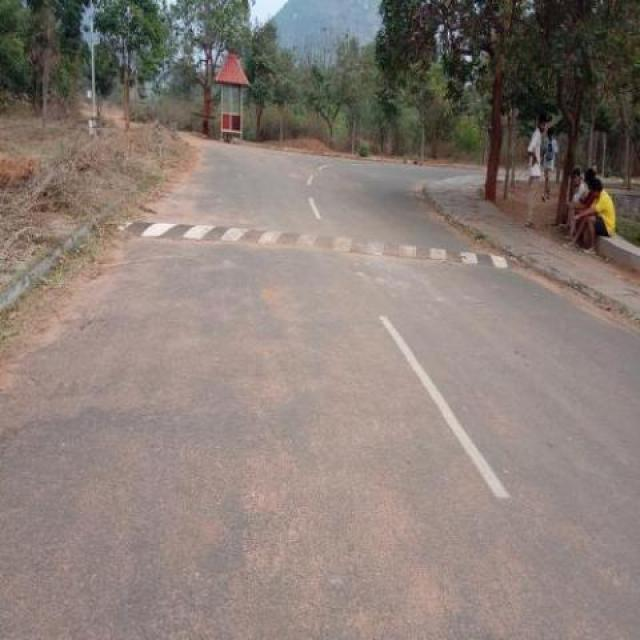Speed Bump: (112, 215, 512, 270)
